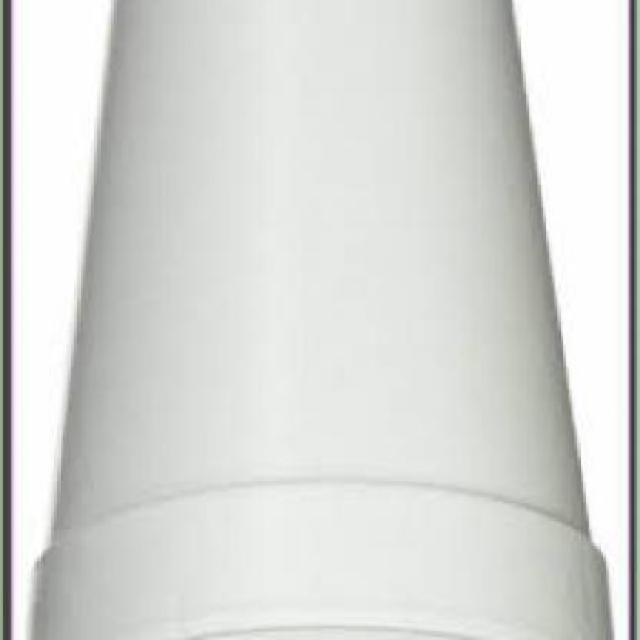PAPER: (31, 3, 618, 639)
